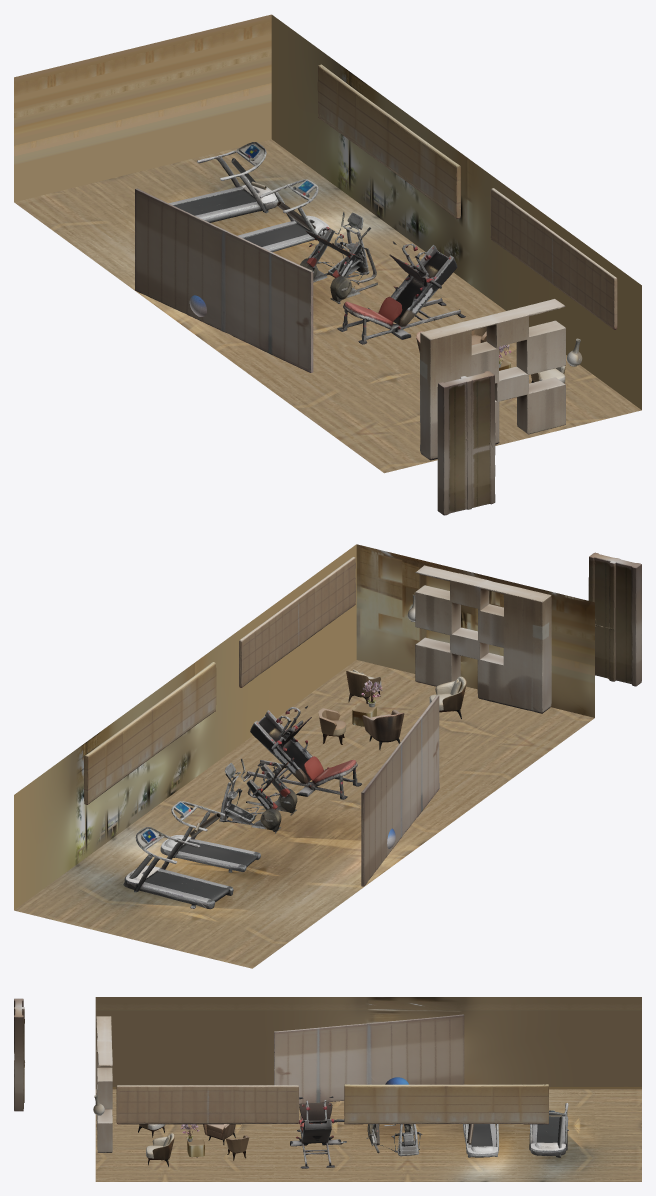
The model's file is scene_lite.glb.
The picture shows the model from 3 angles, top to bottom: view 1: azimuth 30°, elevation 25°; view 2: azimuth 150°, elevation 25°; view 3: azimuth 270°, elevation 25°; orthographic projection. The views are drawn at different scales.
Parts seen in each view (by area): view 1: room_floor, room_wall_z_min, room_wall_x_max, 037_wall_panel, 039_wall_panel, 040_window_blind, 038_wall_panel, 041_window_blind, 034_treadmill, 032_treadmill, 023_exercise_bike, 033_treadmill; view 2: room_floor, room_wall_x_max, room_wall_z_max, 039_wall_panel, 037_wall_panel, 040_window_blind, 038_wall_panel, 041_window_blind, 034_treadmill, 032_treadmill, 023_exercise_bike, 033_treadmill (+4 smaller); view 3: room_wall_x_min, room_floor, 037_wall_panel, 040_window_blind, 041_window_blind, 039_wall_panel, 034_treadmill, 032_treadmill, 038_wall_panel, 033_treadmill, 023_exercise_bike, 003_armchair (+3 smaller).
Boxes of the visible parts, x1,y1,x2,y2 form: room_floor: (14, 139, 641, 473); room_wall_z_min: (14, 14, 271, 201); room_wall_x_max: (271, 15, 641, 409); 037_wall_panel: (135, 188, 313, 372); 039_wall_panel: (420, 299, 565, 460); 040_window_blind: (317, 64, 460, 218); 038_wall_panel: (437, 371, 495, 515); 041_window_blind: (490, 188, 617, 329); 034_treadmill: (337, 241, 465, 344); 032_treadmill: (169, 142, 278, 222); 023_exercise_bike: (300, 212, 377, 303); 033_treadmill: (237, 179, 329, 252); room_floor: (14, 660, 594, 968); room_wall_x_max: (14, 544, 356, 910); room_wall_z_max: (356, 544, 594, 717); 039_wall_panel: (415, 565, 551, 713); 037_wall_panel: (361, 695, 439, 886); 040_window_blind: (84, 662, 216, 804); 038_wall_panel: (588, 552, 641, 686); 041_window_blind: (239, 557, 355, 687); 034_treadmill: (243, 706, 361, 799); 032_treadmill: (124, 827, 233, 909); 023_exercise_bike: (219, 758, 297, 833); 033_treadmill: (160, 801, 260, 872); room_wall_x_min: (95, 997, 641, 1089); room_floor: (95, 1089, 641, 1181); 037_wall_panel: (274, 1014, 464, 1104); 040_window_blind: (344, 1084, 548, 1124); 041_window_blind: (116, 1085, 298, 1124); 039_wall_panel: (96, 1016, 112, 1152); 034_treadmill: (290, 1096, 346, 1168); 032_treadmill: (529, 1103, 568, 1155); 038_wall_panel: (14, 998, 24, 1111); 033_treadmill: (463, 1124, 498, 1157); 023_exercise_bike: (366, 1124, 422, 1156); 003_armchair: (146, 1133, 174, 1166).
Bounding box in the file's own units: 1.84 × 0.8741 × 5.26.
26 materials, 26 textured.
